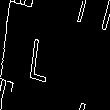L_N: (42, 27, 68, 83)
